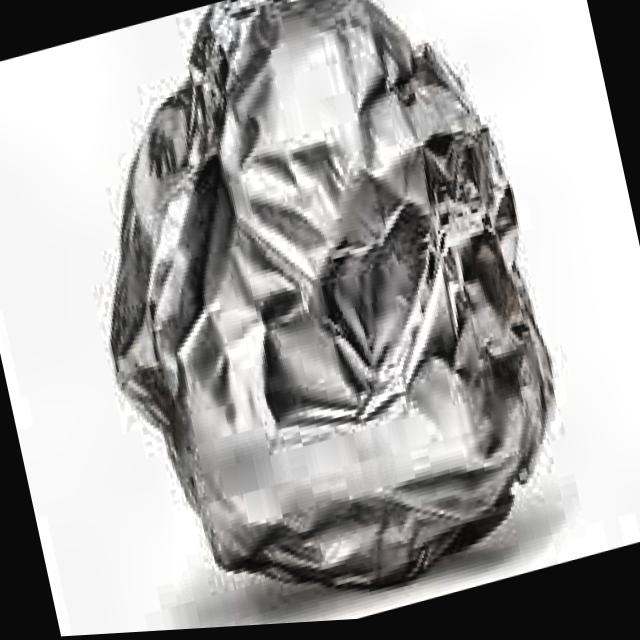Foil: (41, 0, 596, 638)
